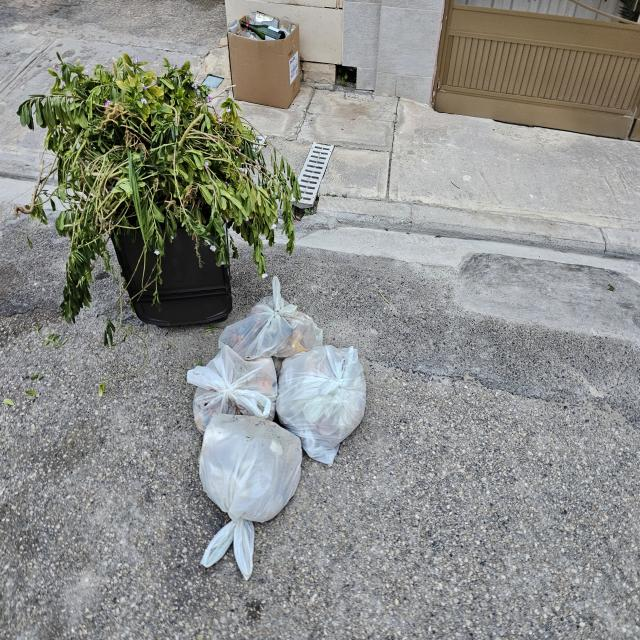other_waste: (223, 8, 304, 116)
white_bag: (196, 412, 304, 586), (275, 342, 369, 470), (217, 274, 325, 361), (185, 342, 280, 432)
